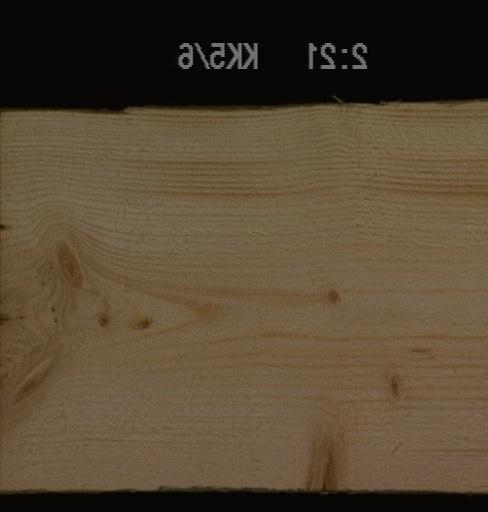small_knot: (381, 367, 405, 400), (93, 304, 114, 330), (321, 283, 342, 307)
split: (1, 302, 61, 327)
wave: (63, 102, 126, 116)
